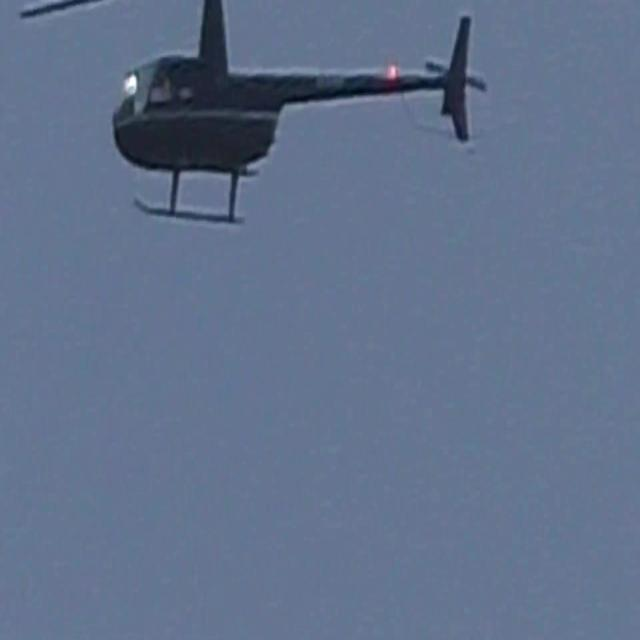CIV_HELO: (112, 0, 488, 230)
